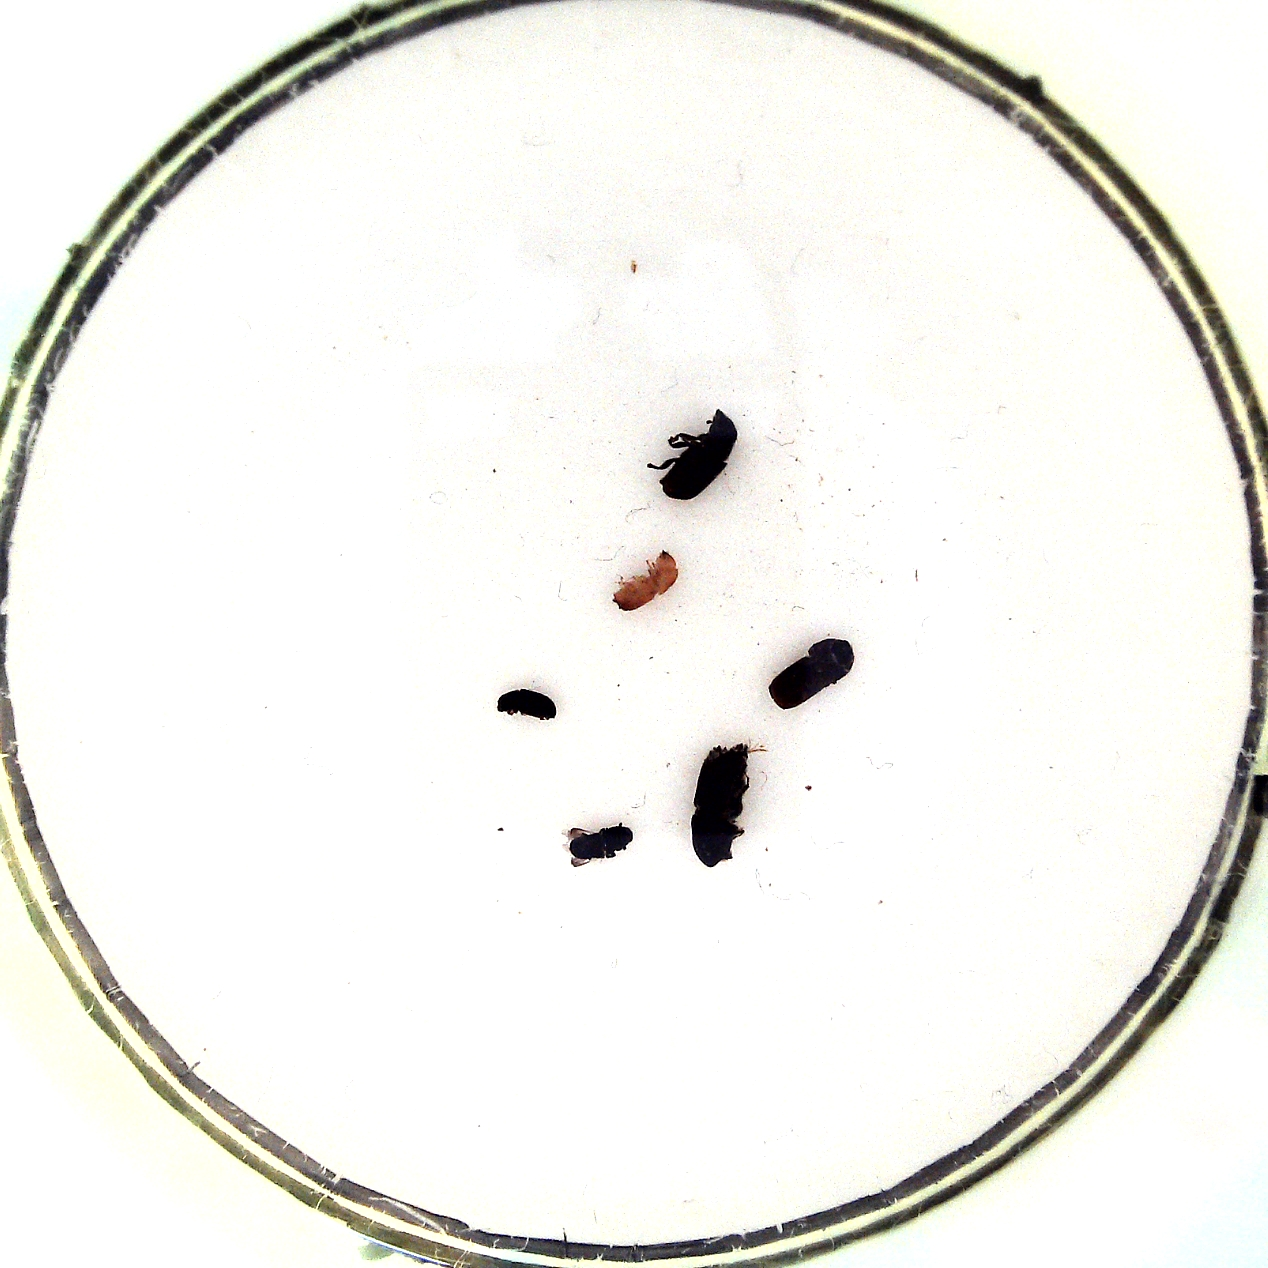Boerner: (682, 735, 772, 871)
Linnaeus: (762, 636, 864, 712)
acuminatus: (605, 543, 685, 617)
armandi: (643, 408, 741, 507)
coleoptera: (557, 817, 641, 874), (492, 682, 569, 726)
